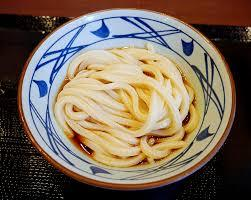bukkake: (25, 12, 231, 186)
